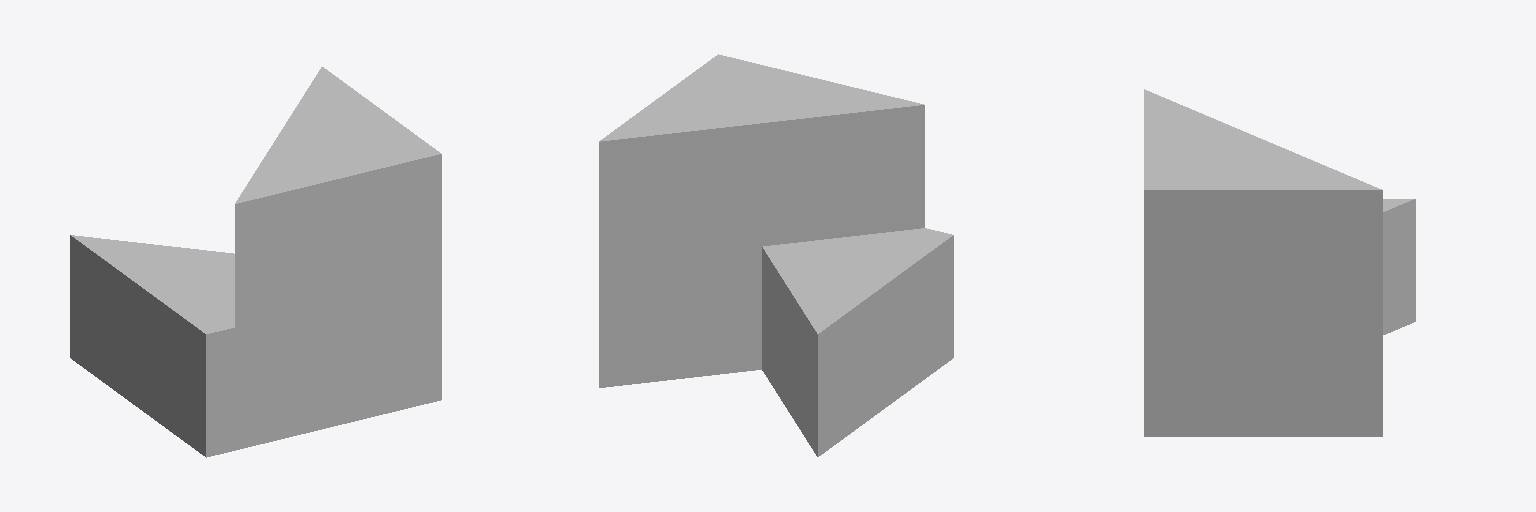
File: spirdiag_r.obj
3 renders of one model, left to right at view 1: azimuth 30°, elevation 25°; view 2: azimuth 150°, elevation 25°; view 3: azimuth 270°, elevation 25°, orthographic.
Bounding box in the file's own units: 1 × 1 × 1.